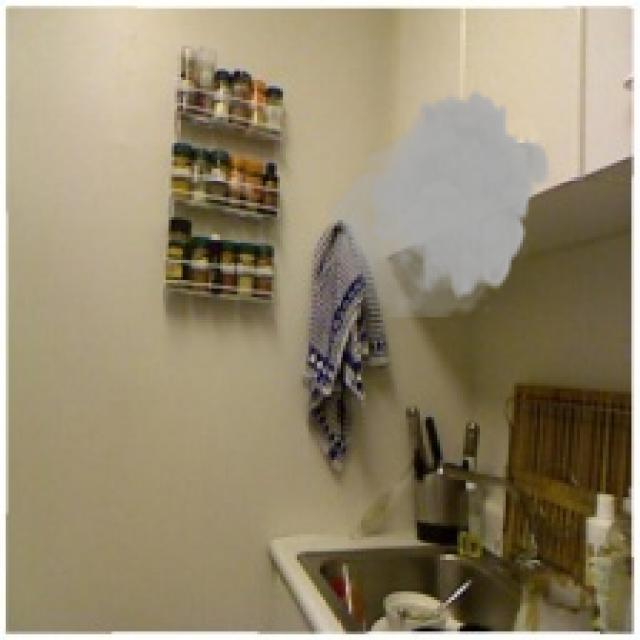smoke: (323, 86, 551, 317)
